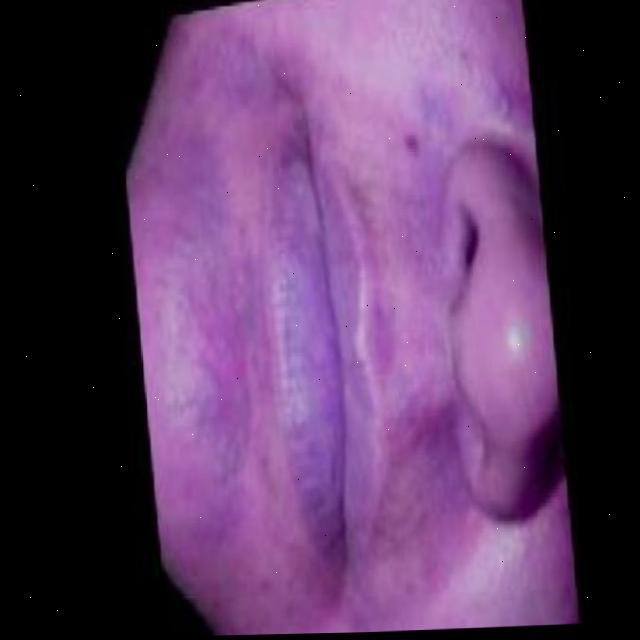Acne: (143, 177, 272, 572)
